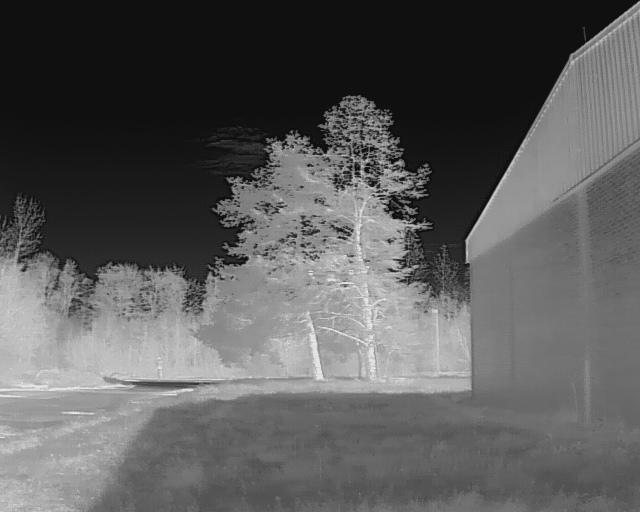drone: (299, 262, 366, 293)
